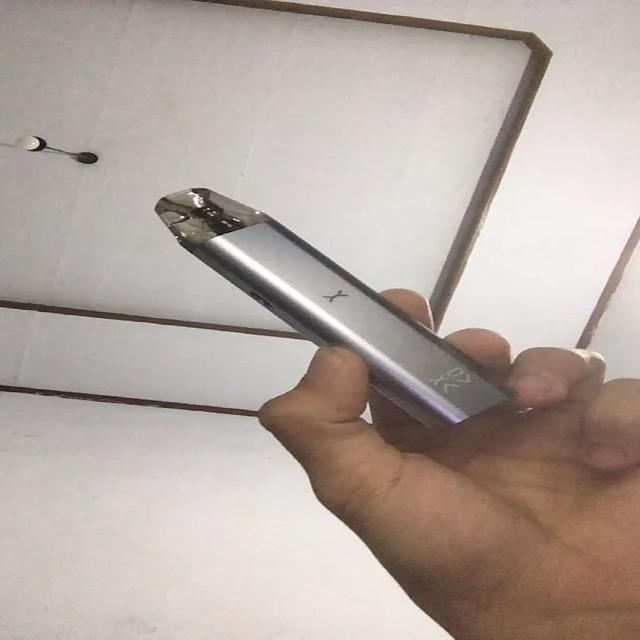Hazard: (150, 185, 517, 433)
